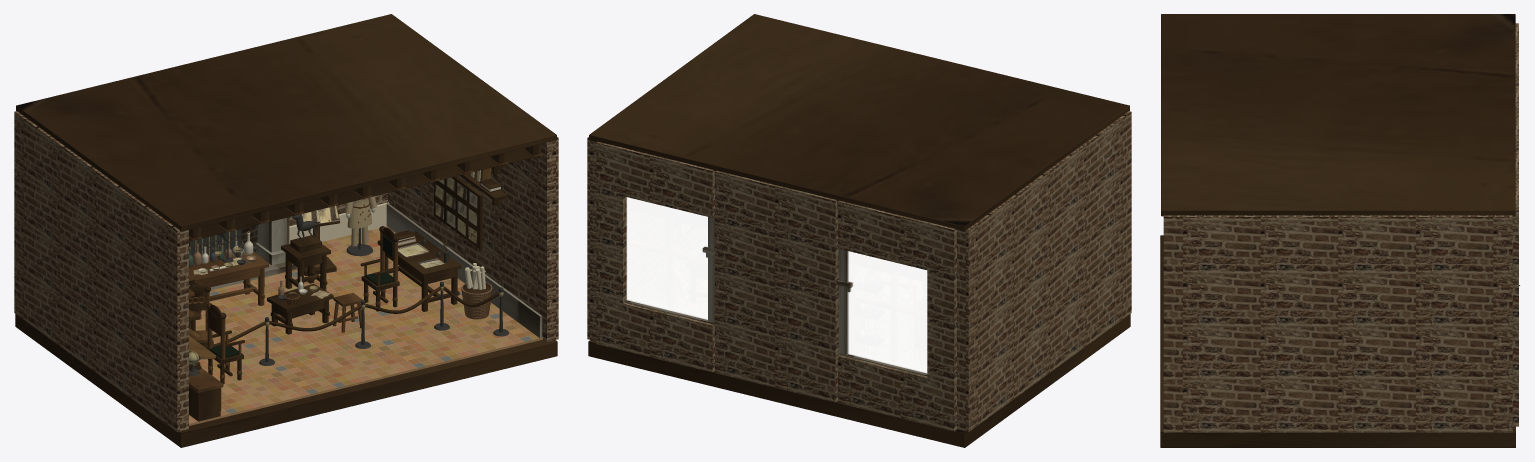
Rendered from Clos-Luce-Leonardo-Atelier.glb.
The picture shows the model from 3 angles, left to right: view 1: azimuth 30°, elevation 25°; view 2: azimuth 150°, elevation 25°; view 3: azimuth 270°, elevation 25°; orthographic projection. The views are drawn at different scales.
Parts seen in each view (by area): view 1: Timber ceiling, West wall, Architecture, East wall, Carved walnut chair (×3), Pigments and experimental workbench, Writing and anatomy desk, Limestone fireplace, Anatomical and mechanical drawings, Museum rope barriers, Equestrian sculpture study, Low preparation table (+7 smaller); view 2: Timber ceiling, North wall with two leaded windows, West wall, Leaded oak window (×2), Architecture, East wall; view 3: East wall, Timber ceiling, Architecture, North wall with two leaded windows.
Part boxes in pixels (x1,y1,x2,y2): Timber ceiling: (16, 14, 556, 241); West wall: (14, 111, 188, 432); Architecture: (15, 226, 557, 447); East wall: (386, 137, 558, 341); Carved walnut chair (×3): (189, 226, 399, 384); Pigments and experimental workbench: (189, 231, 268, 319); Writing and anatomy desk: (377, 230, 461, 311); Limestone fireplace: (189, 217, 297, 290); Anatomical and mechanical drawings: (434, 176, 482, 249); Museum rope barriers: (203, 281, 508, 365); Equestrian sculpture study: (281, 235, 330, 290); Low preparation table: (267, 276, 333, 334); Timber ceiling: (589, 14, 1129, 231); North wall with two leaded windows: (596, 141, 956, 431); West wall: (957, 111, 1131, 432); Leaded oak window (×2): (625, 197, 927, 375); Architecture: (588, 314, 1130, 447); East wall: (587, 137, 596, 341); East wall: (1163, 215, 1512, 432); Timber ceiling: (1161, 14, 1515, 216); Architecture: (1160, 235, 1515, 447); North wall with two leaded windows: (1512, 23, 1518, 426).
Bounding box in the file's own units: 8.52 × 4.73 × 6.5.
Materials: 50 (19 with a texture image).
